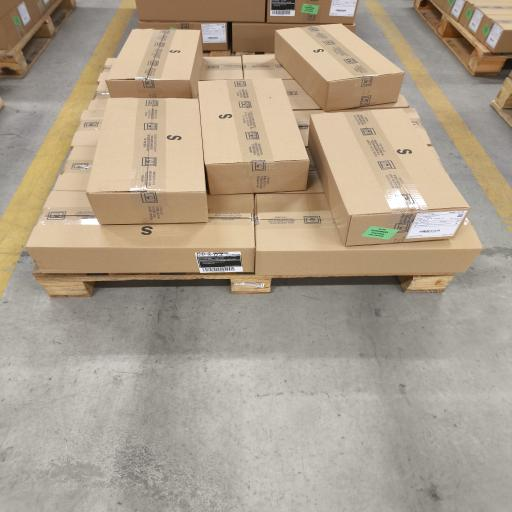pallet: (34, 266, 304, 297), (495, 74, 511, 108), (491, 101, 511, 127), (0, 98, 4, 109)
